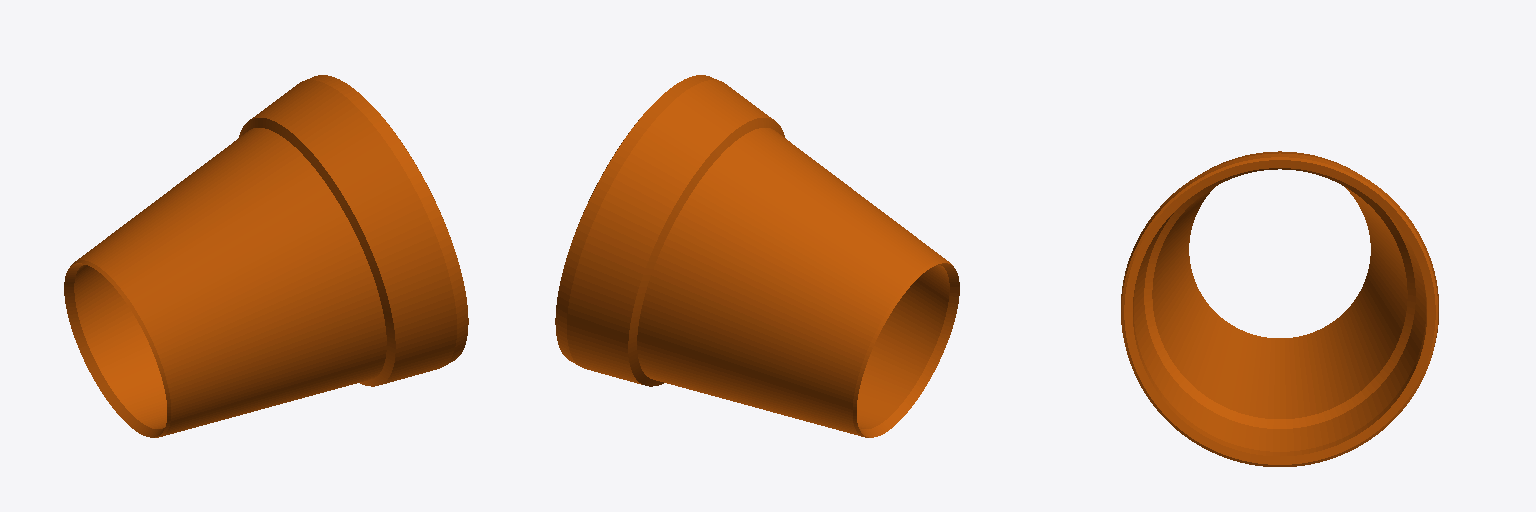
3 views of the same model, side by side, from view 1: azimuth 30°, elevation 25°; view 2: azimuth 150°, elevation 25°; view 3: azimuth 270°, elevation 25° (orthographic).
Visible parts, largest first — view 1: Cylinder_Cylinder.001; view 2: Cylinder_Cylinder.001; view 3: Cylinder_Cylinder.001.
Part boxes in pixels (x1,y1,x2,y2): Cylinder_Cylinder.001: (64,75,468,437); Cylinder_Cylinder.001: (555,75,959,437); Cylinder_Cylinder.001: (1121,151,1438,466).
Size of the model in its own units: 1.15 by 1.01 by 1.
1 materials, 1 textured.